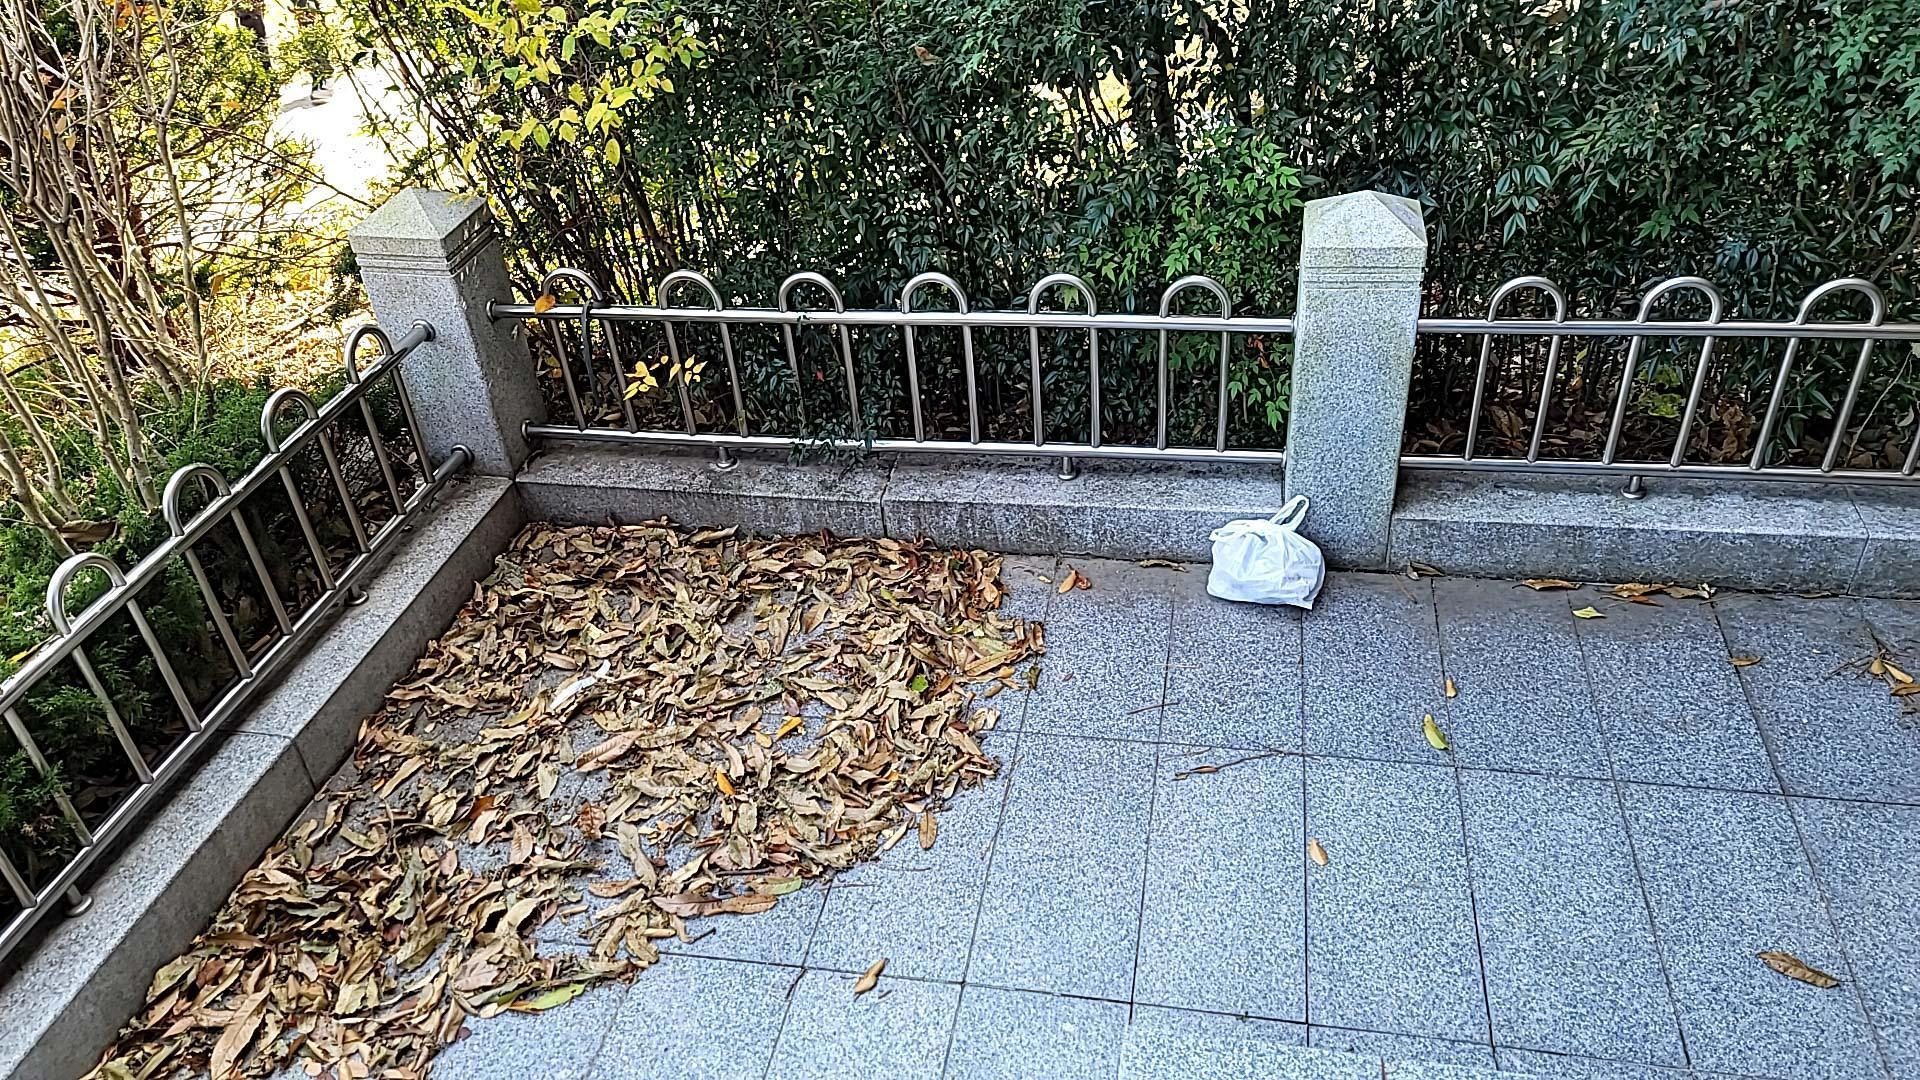white_bag: (1197, 493, 1338, 620)
